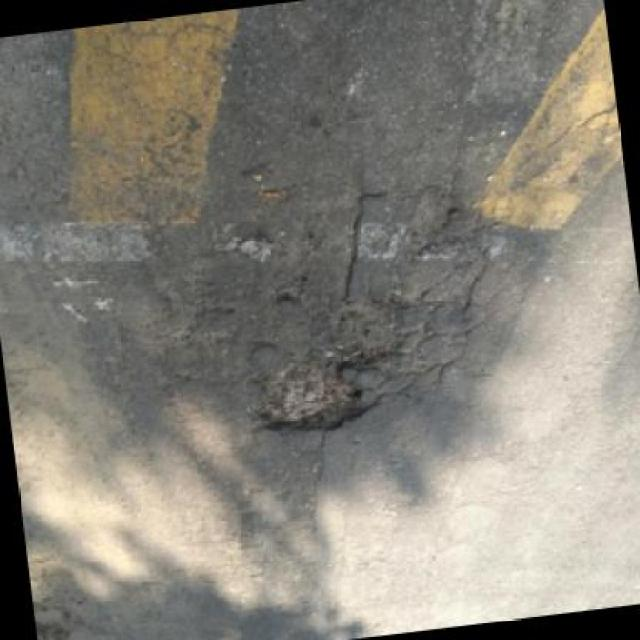pothole1: (238, 346, 382, 443), (316, 290, 412, 375), (396, 176, 464, 255)
